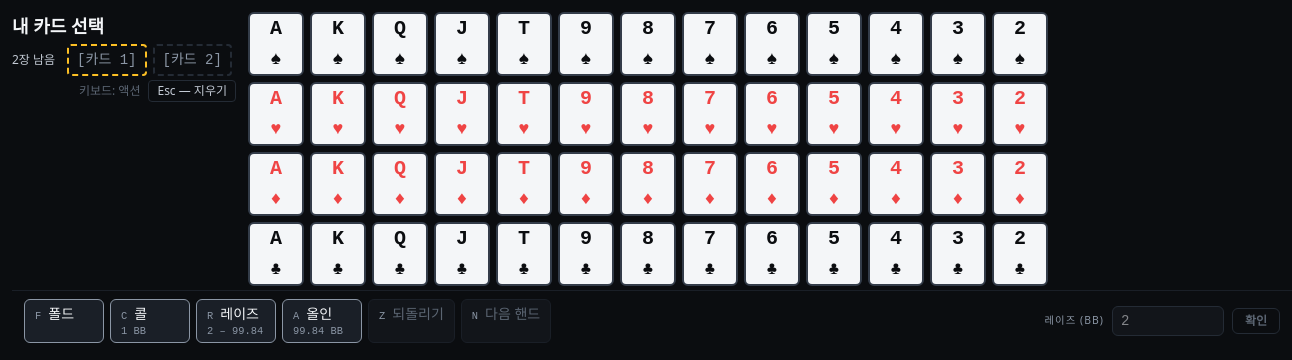
Test case: CardPalette — WP-8 enlarged hit areas and title › shows a Korean title derived from the request kind, and it changes with the request
expect the text with test id "card-palette-title" reads "내 카드 선택": met, box [12, 14, 104, 38]
Click the button with test id "palette-As". click: click(276, 44)
box: [248, 12, 304, 76]
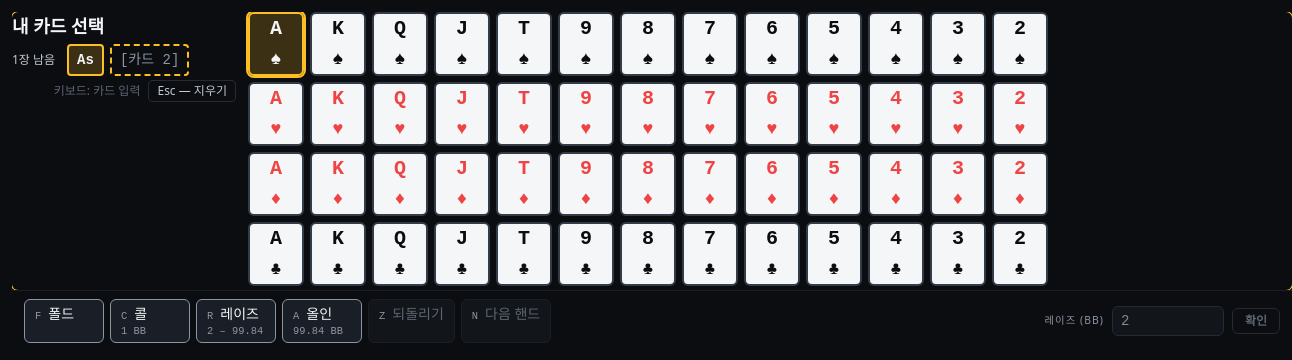
Click the button "K ♦". click: click(338, 184)
box: [310, 152, 366, 216]
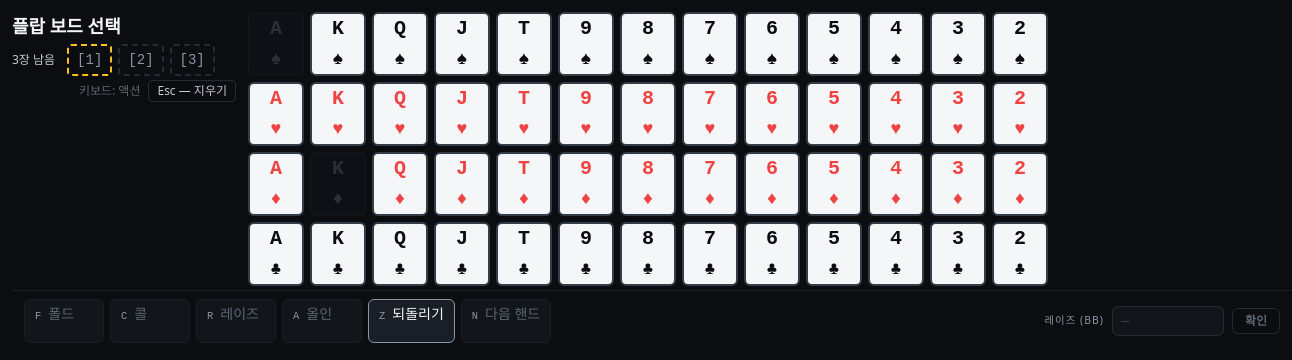
expect the text with test id "card-palette-title" reads "플랍 보드 선택": met, box [12, 14, 121, 38]
